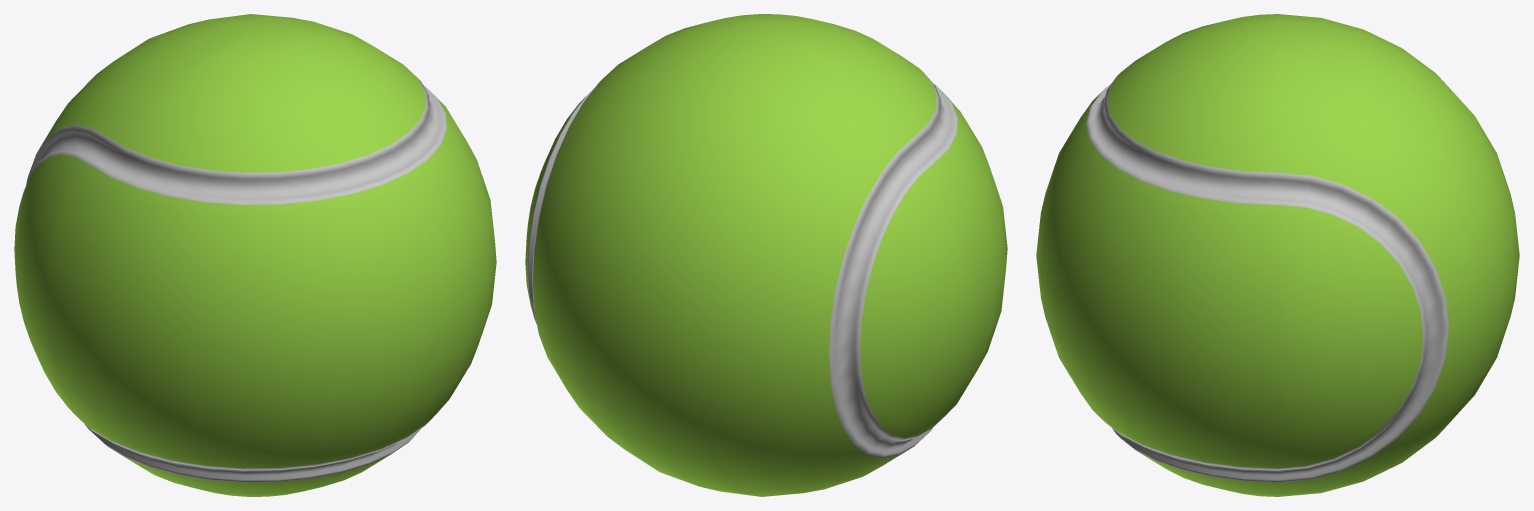
File: Tennis Ball001.fbx
The picture shows the model from 3 angles, left to right: view 1: azimuth 30°, elevation 25°; view 2: azimuth 150°, elevation 25°; view 3: azimuth 270°, elevation 25°; orthographic projection.
Visible parts, largest first — view 1: Sphere; view 2: Sphere; view 3: Sphere.
Boxes of the visible parts, bbox=[...] form: Sphere: bbox=[14, 14, 496, 496]; Sphere: bbox=[525, 14, 1007, 496]; Sphere: bbox=[1036, 14, 1519, 496].
Bounding box in the file's own units: 200 × 200 × 200.
